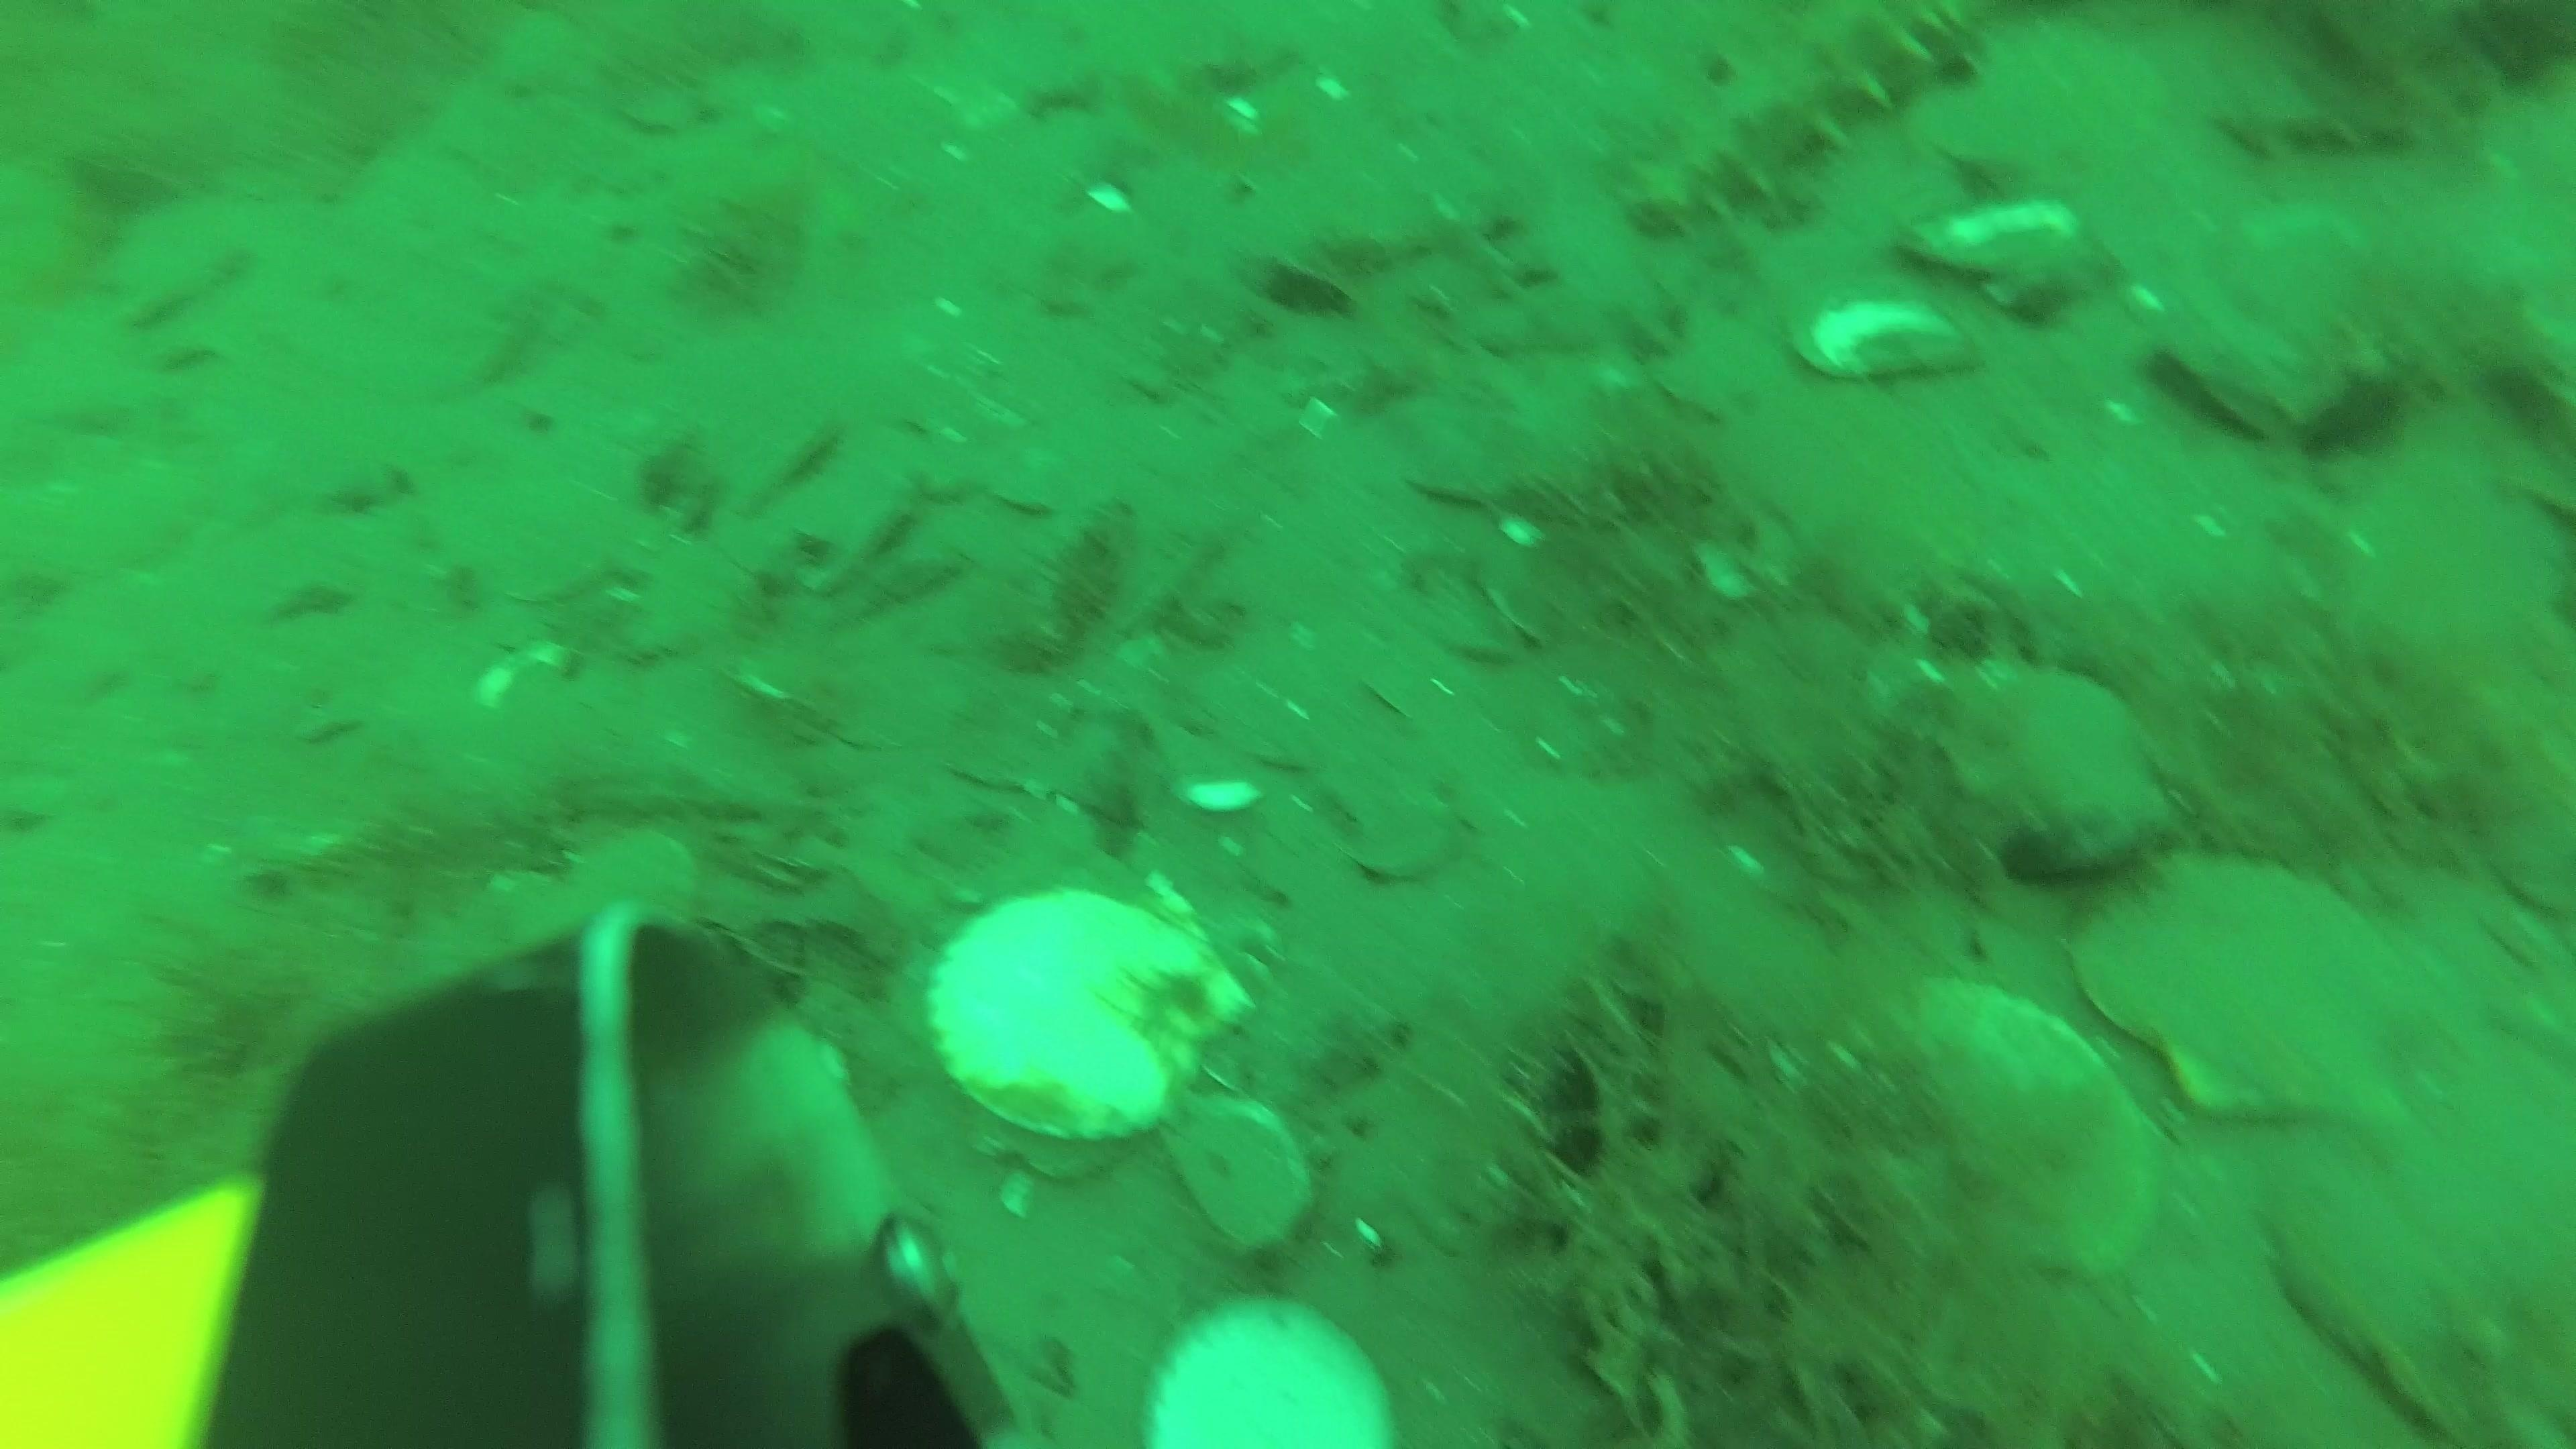holothurian: (1617, 4, 1983, 239)
scallop: (2074, 849, 2438, 1131), (924, 883, 1258, 1152), (1884, 982, 2162, 1288), (1920, 656, 2173, 867), (2335, 455, 2565, 683), (1914, 19, 2173, 202), (1143, 1299, 1396, 1445), (557, 826, 701, 941)
